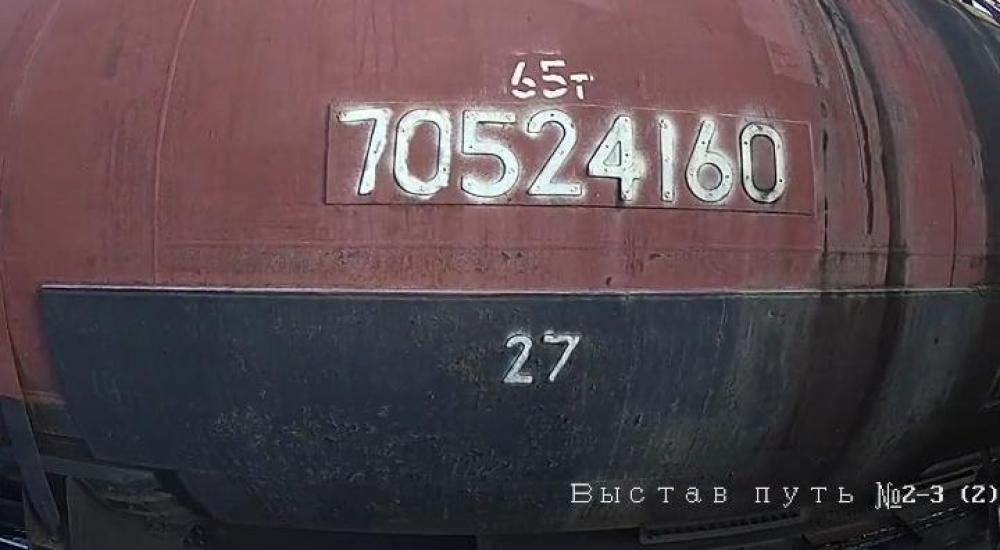Wagon-number: (335, 102, 792, 210)
